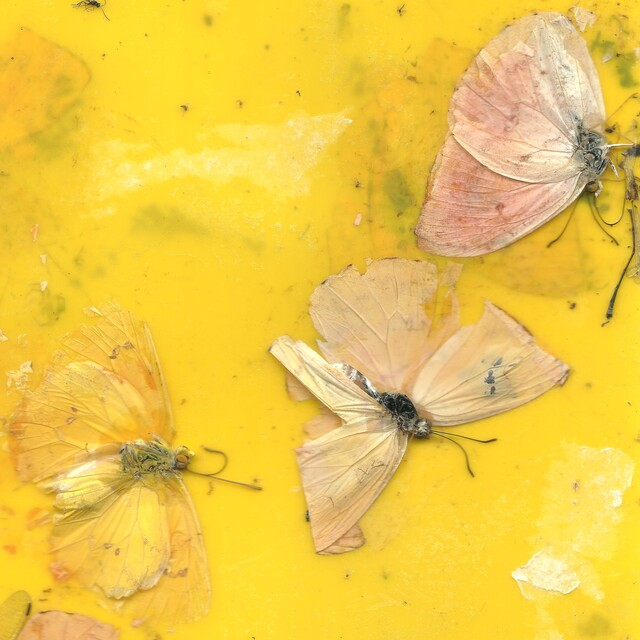Lepidoptera: (265, 257, 570, 557), (12, 311, 263, 627), (414, 13, 628, 258)
